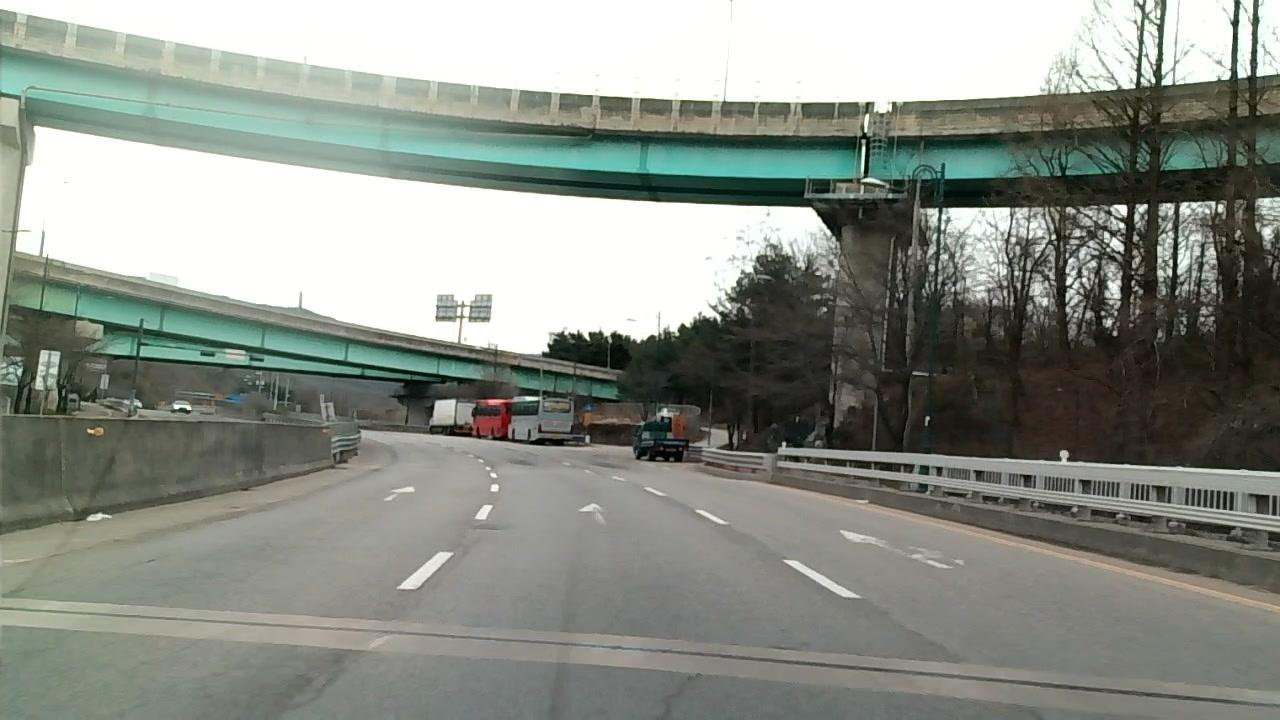banner: (1023, 671, 1280, 713), (224, 613, 485, 652), (746, 651, 1014, 684), (492, 629, 735, 665), (3, 600, 215, 623), (866, 596, 946, 648), (657, 673, 710, 720)
